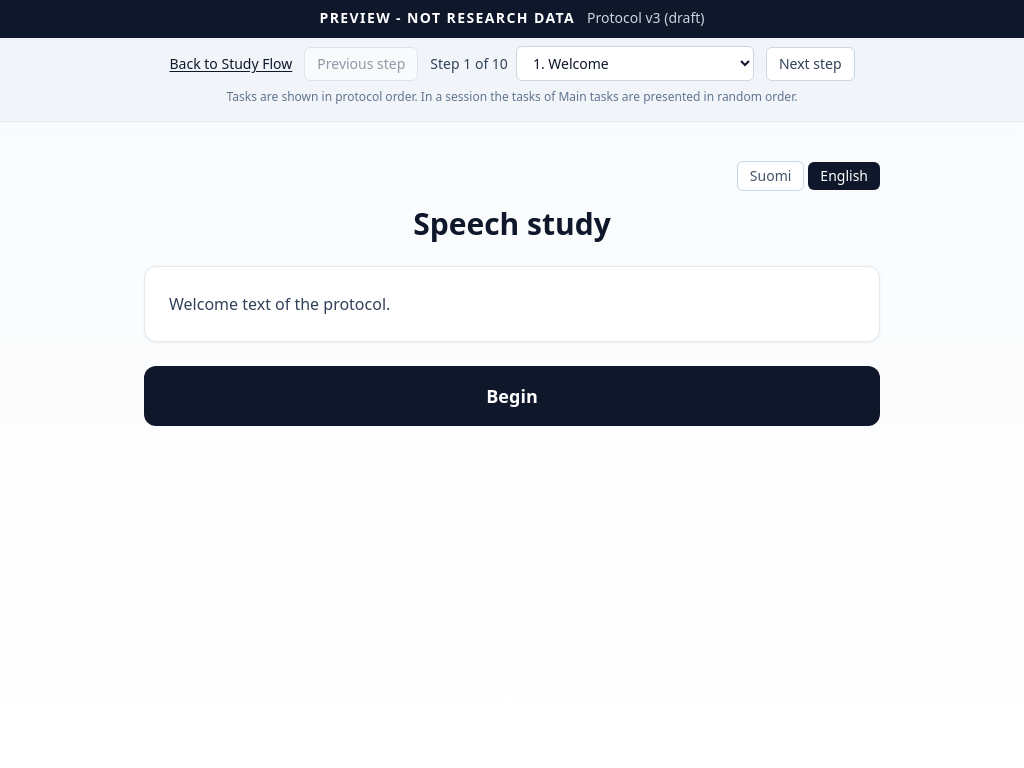
Scenario: PreviewFlow › never opens the microphone: the mic check and the recording control stay in their starting state
This screenshot has width=1024, height=768.
Select "4. Microphone check" in the dropdown named "Go to step": (635, 64) x1=516 y1=46 x2=754 y2=81
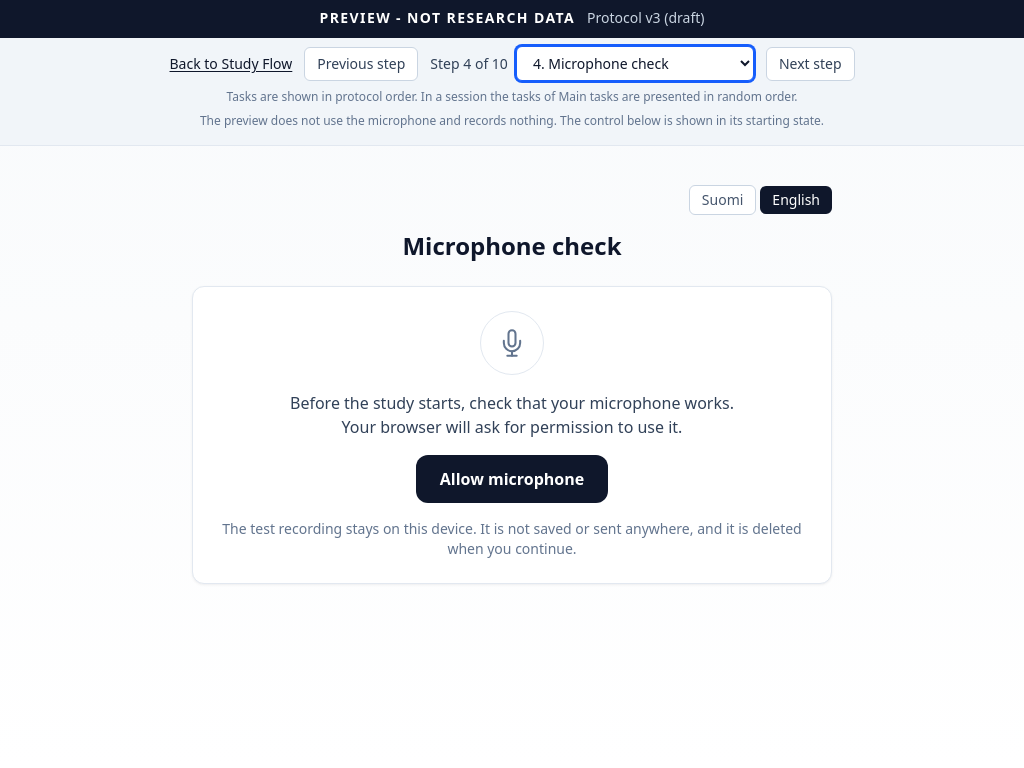
Now the text "does not use the microphone" is shown, box x1=200 y1=112 x2=824 y2=129
Click the button "Allow microphone": (512, 479) x1=416 y1=455 x2=608 y2=503
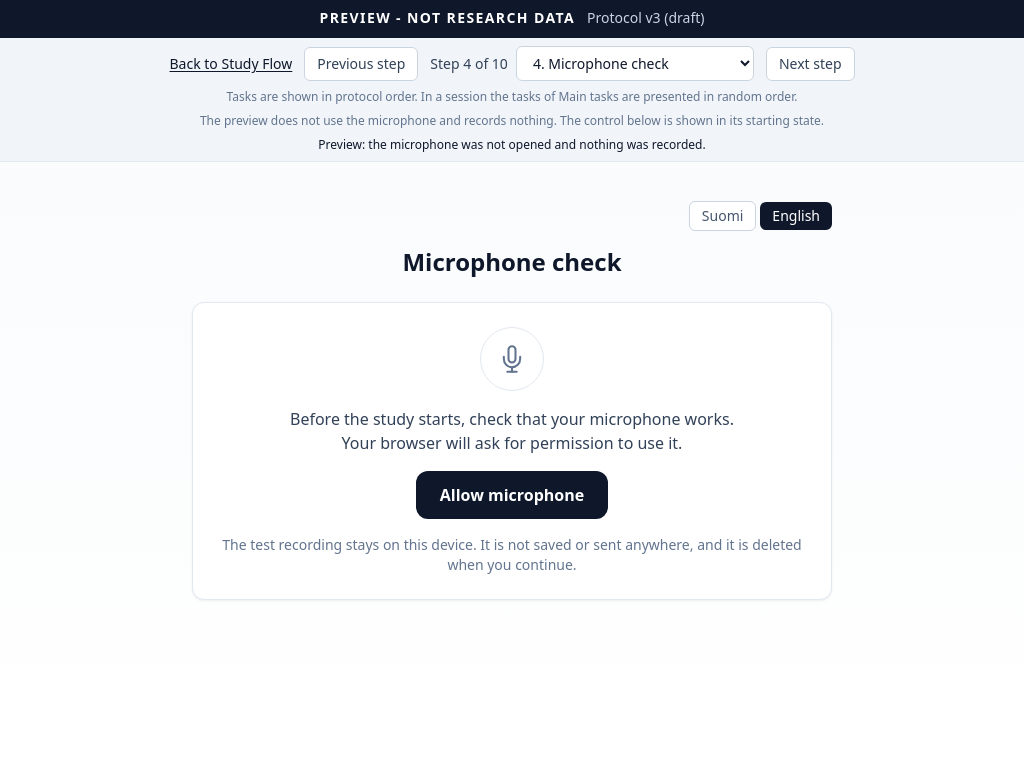
Expected: the button "Allow microphone" is enabled, x1=416 y1=471 x2=608 y2=519
Now the message shows "the microphone was not opened", box x1=318 y1=136 x2=706 y2=153
Select "6. Task 1: Where you grew up" in the dropdown named "Go to step": (635, 64) x1=516 y1=46 x2=754 y2=81
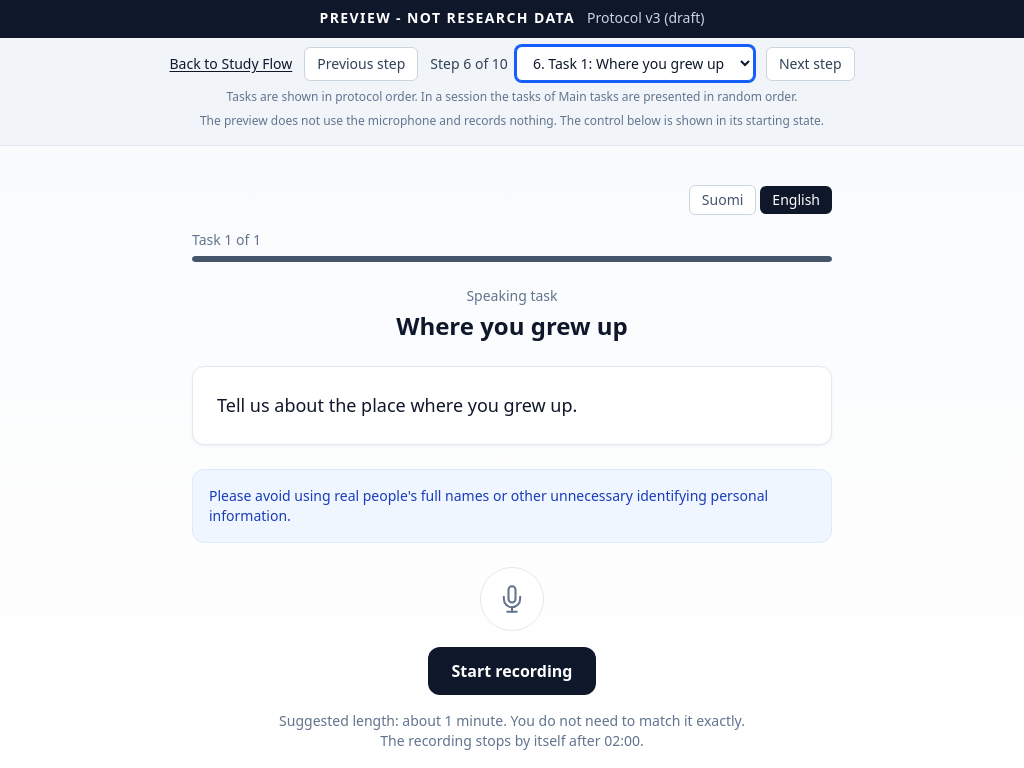
Now the heading "Where you grew up" is shown, box x1=396 y1=309 x2=628 y2=342
Now the text "Please avoid using real people's full names or other unnecessary identifying personal information." is shown, box x1=209 y1=486 x2=768 y2=525
Now the text "The recording stops by itself after 02:00." is shown, box x1=380 y1=731 x2=644 y2=750
Click the button "Start recording": (512, 671) x1=428 y1=647 x2=596 y2=695
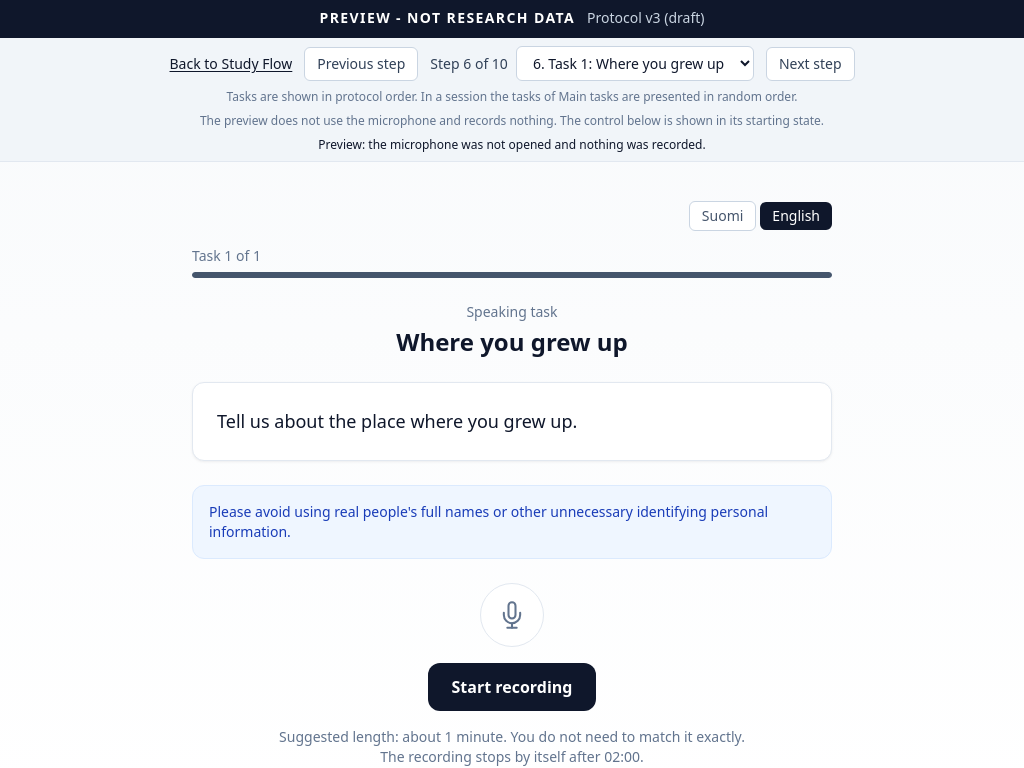
Expected: the button "Start recording" is enabled, x1=428 y1=663 x2=596 y2=711
Now the message shows "the microphone was not opened", box x1=318 y1=136 x2=706 y2=153
